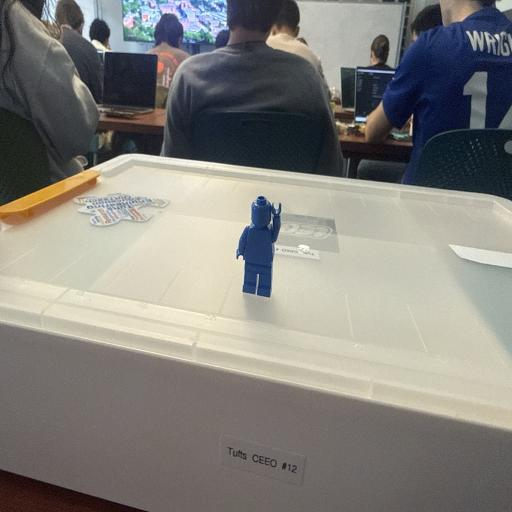Minifig: (236, 196, 281, 297)
